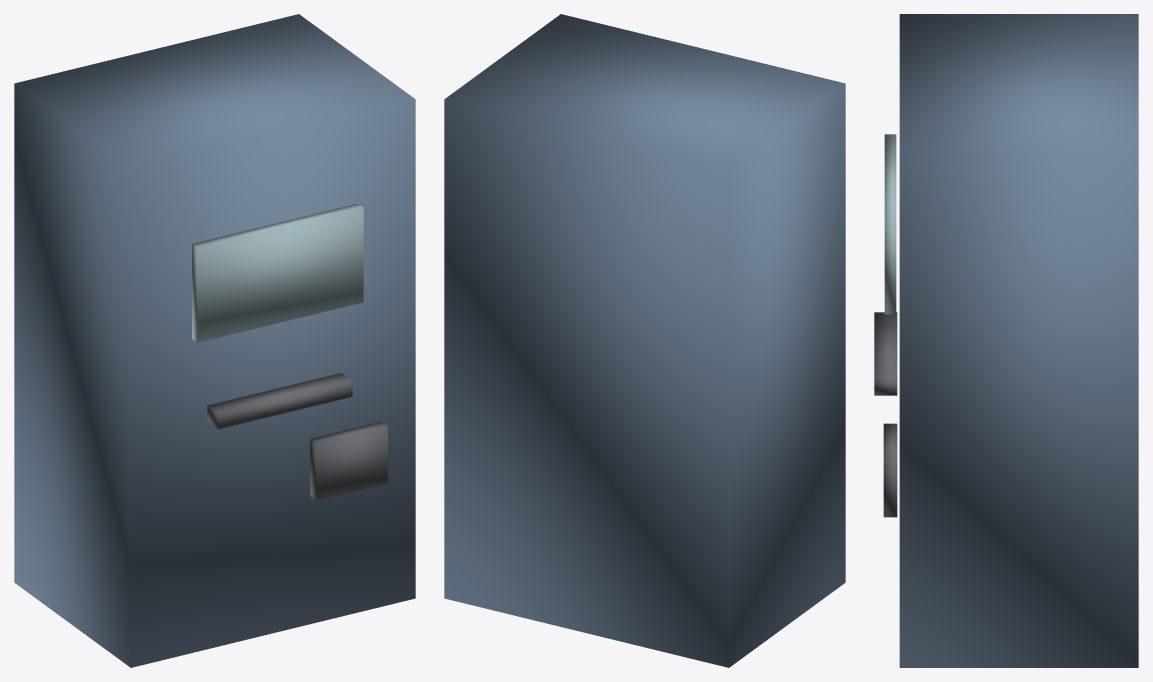
Rendered from ticket_vending_machine__squat.glb.
The picture shows the model from 3 angles, left to right: view 1: azimuth 30°, elevation 25°; view 2: azimuth 150°, elevation 25°; view 3: azimuth 270°, elevation 25°; orthographic projection. The views are drawn at different scales.
Visible parts, largest first — view 1: world; view 2: world; view 3: world.
Part boxes in pixels (box(x1,y1,x2,y2)): world: box(14, 14, 415, 667); world: box(444, 14, 845, 667); world: box(874, 14, 1138, 667).
Size of the model in its own units: 0.792 by 1.33 by 0.621.
